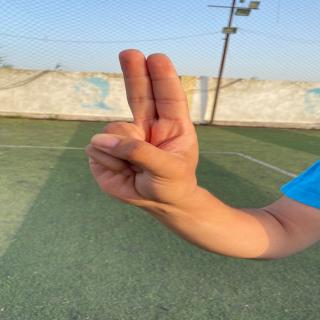TA: (76, 45, 214, 221)
